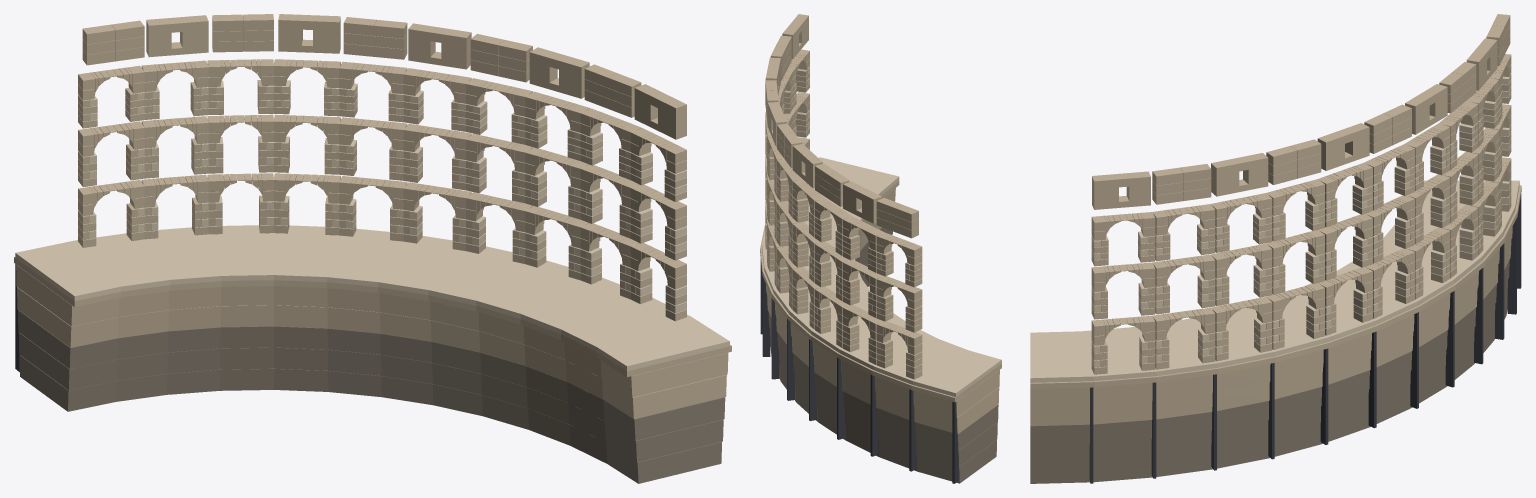
File: COL_StoneMasonry_Q4.glb
3 views of the same model, side by side, from view 1: azimuth 30°, elevation 25°; view 2: azimuth 150°, elevation 25°; view 3: azimuth 270°, elevation 25° (orthographic). The views are drawn at different scales.
Parts seen in each view (by area): view 1: COL_StoneMasonry_Q4; view 2: COL_StoneMasonry_Q4; view 3: COL_StoneMasonry_Q4.
Part boxes in pixels (x1=…): COL_StoneMasonry_Q4: x1=14, y1=14, x2=731, y2=483; COL_StoneMasonry_Q4: x1=760, y1=14, x2=1001, y2=483; COL_StoneMasonry_Q4: x1=1030, y1=14, x2=1521, y2=483.
Size of the model in its own units: 128 by 91.14 by 134.
